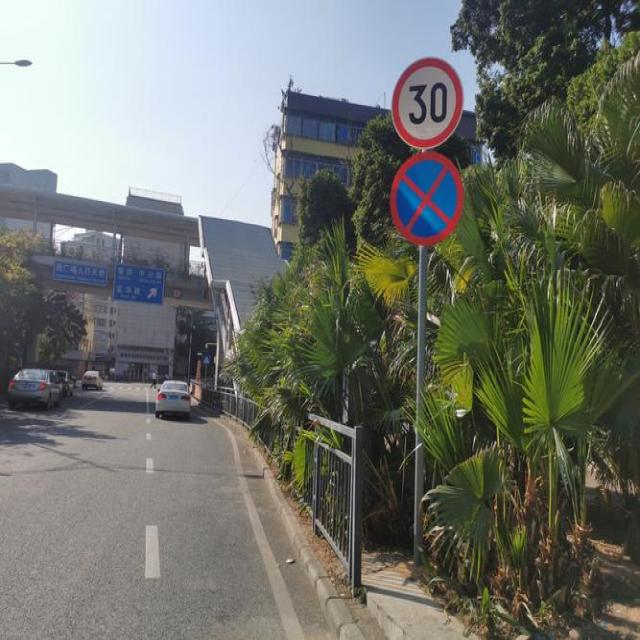speed limit 30: (390, 55, 462, 151)
